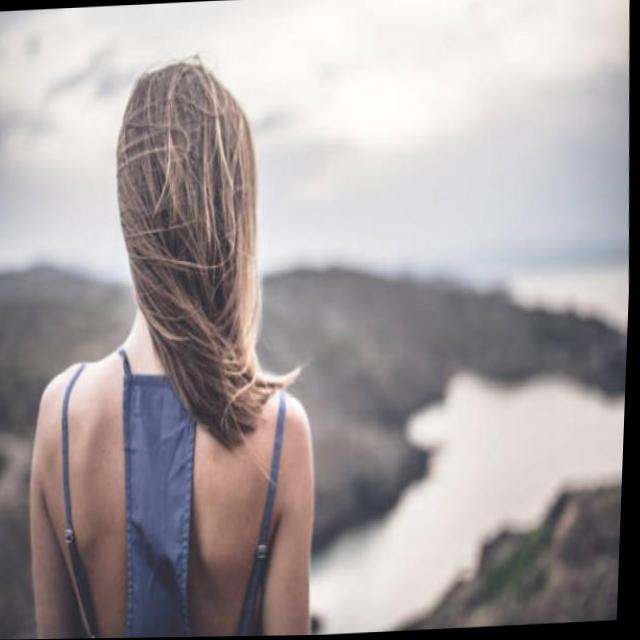no helmet: (89, 43, 290, 452)
